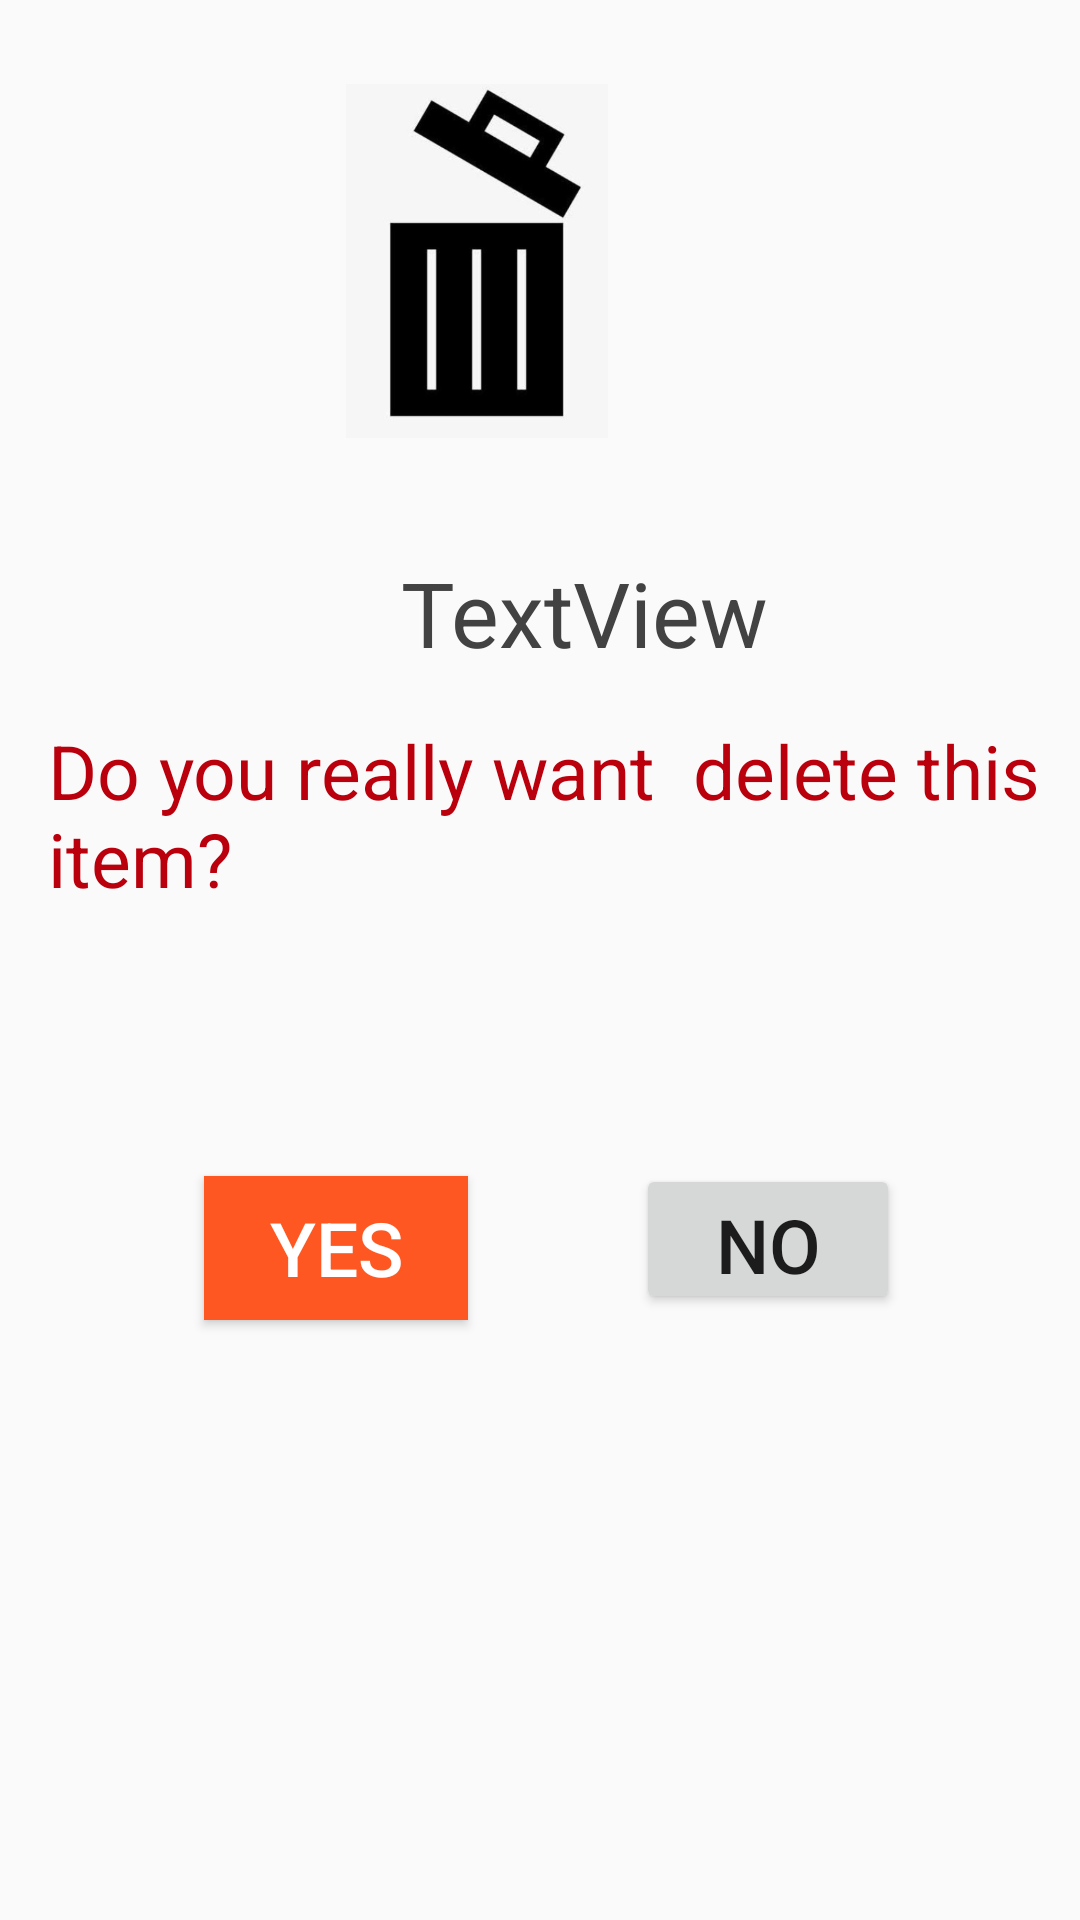

Where icons sit on this 1080w x 1920h app screen, as box(x1, y1, x2, y2):
trashbin: box(390, 90, 581, 417)
